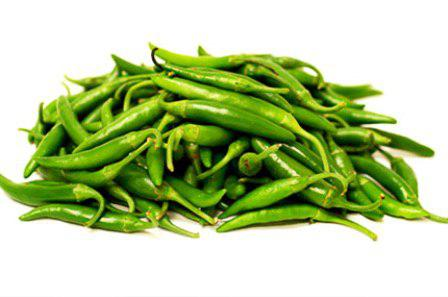lada hijau: (210, 165, 324, 222), (179, 91, 296, 144), (70, 91, 172, 150), (28, 131, 147, 176), (175, 62, 289, 107), (1, 169, 109, 215), (24, 201, 147, 240), (216, 202, 327, 234), (359, 176, 430, 218), (158, 169, 218, 212)
